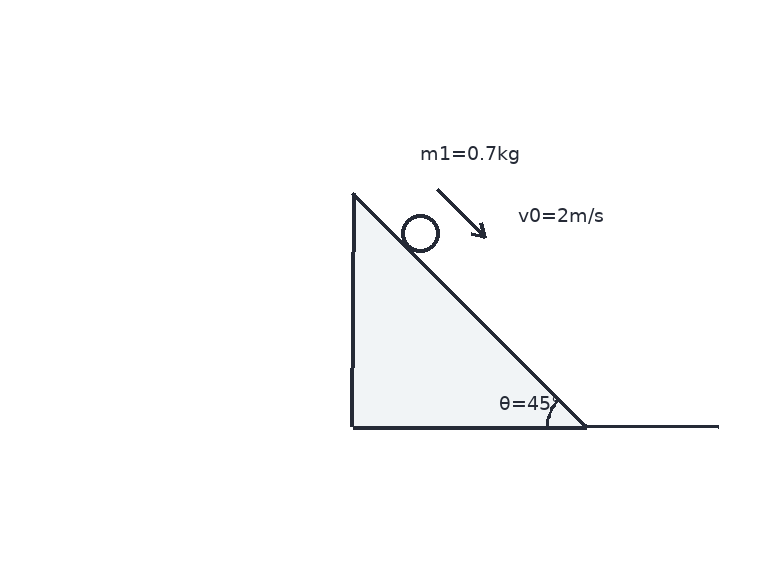ball: (399, 212, 441, 254)
ramp: (352, 192, 589, 429)
